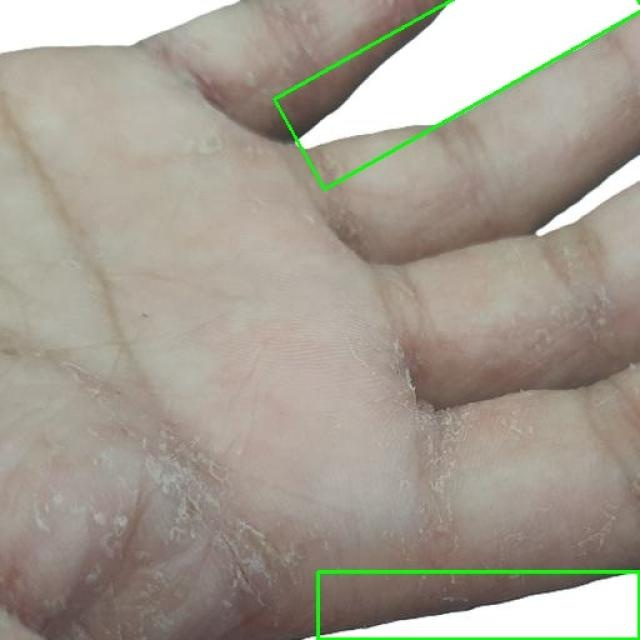Scabies: (274, 0, 640, 189), (318, 571, 639, 639)
